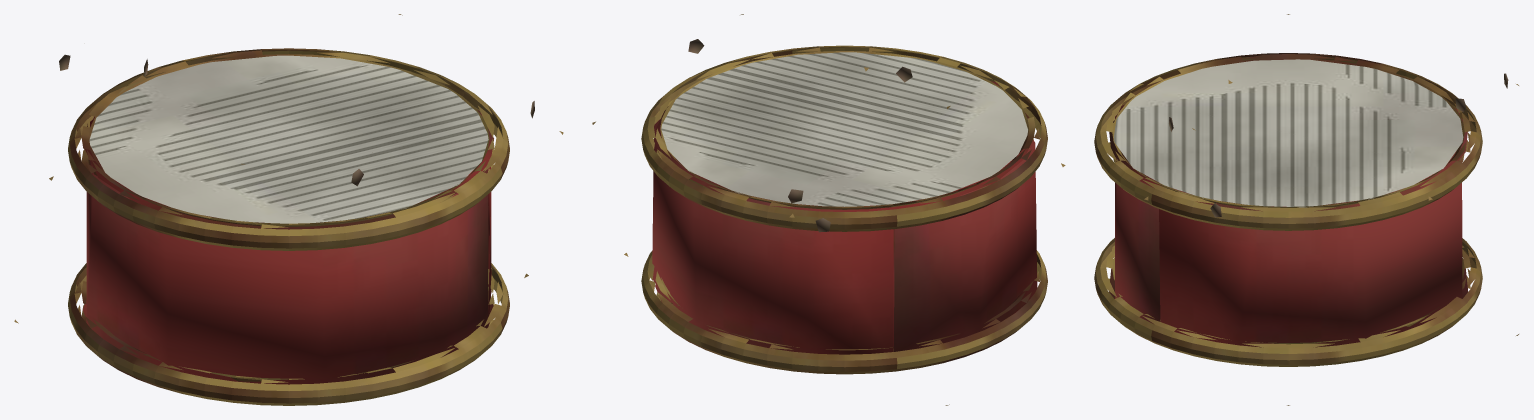
Rendered from MU09_ToySnareDrum.glb.
The picture shows the model from 3 angles, left to right: view 1: azimuth 30°, elevation 25°; view 2: azimuth 150°, elevation 25°; view 3: azimuth 270°, elevation 25°; orthographic projection. The views are drawn at different scales.
Parts seen in each view (by area): view 1: MU09_ToySnareDrum; view 2: MU09_ToySnareDrum; view 3: MU09_ToySnareDrum.
Part boxes in pixels (x1,y1,x2,y2): MU09_ToySnareDrum: (14,14,563,405); MU09_ToySnareDrum: (592,14,1065,405); MU09_ToySnareDrum: (1094,14,1518,405).
Bounding box in the file's own units: 0.3986 × 0.1729 × 0.3501.
Materials: 4 (4 with a texture image).
